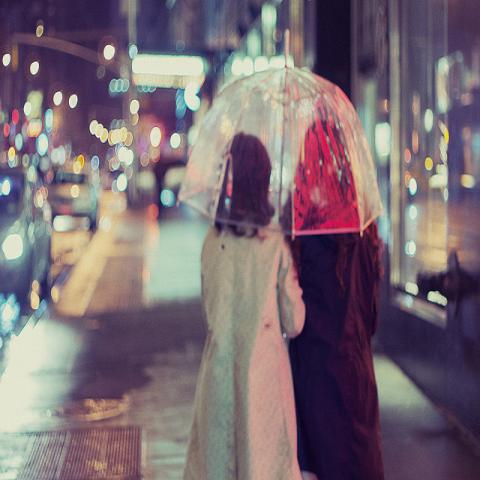car: (0, 156, 55, 326), (46, 168, 99, 232)
